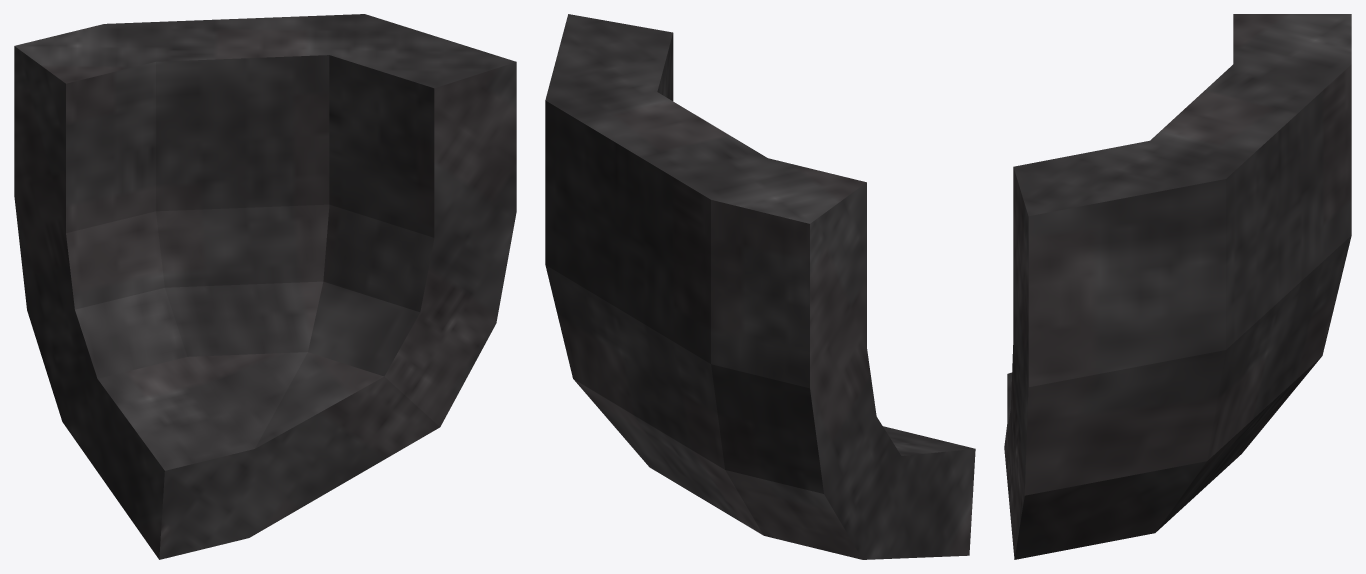
File: balk_10.glb
The picture shows the model from 3 angles, left to right: view 1: azimuth 30°, elevation 25°; view 2: azimuth 150°, elevation 25°; view 3: azimuth 270°, elevation 25°; orthographic projection. The views are drawn at different scales.
Parts seen in each view (by area): view 1: Куб.005; view 2: Куб.005; view 3: Куб.005.
Boxes of the visible parts, bbox=[...] form: Куб.005: bbox=[14, 14, 516, 559]; Куб.005: bbox=[545, 14, 975, 559]; Куб.005: bbox=[1004, 14, 1351, 559].
Size of the model in its own units: 3.06 by 3.3 by 2.23.
Materials: 1 (1 with a texture image).
